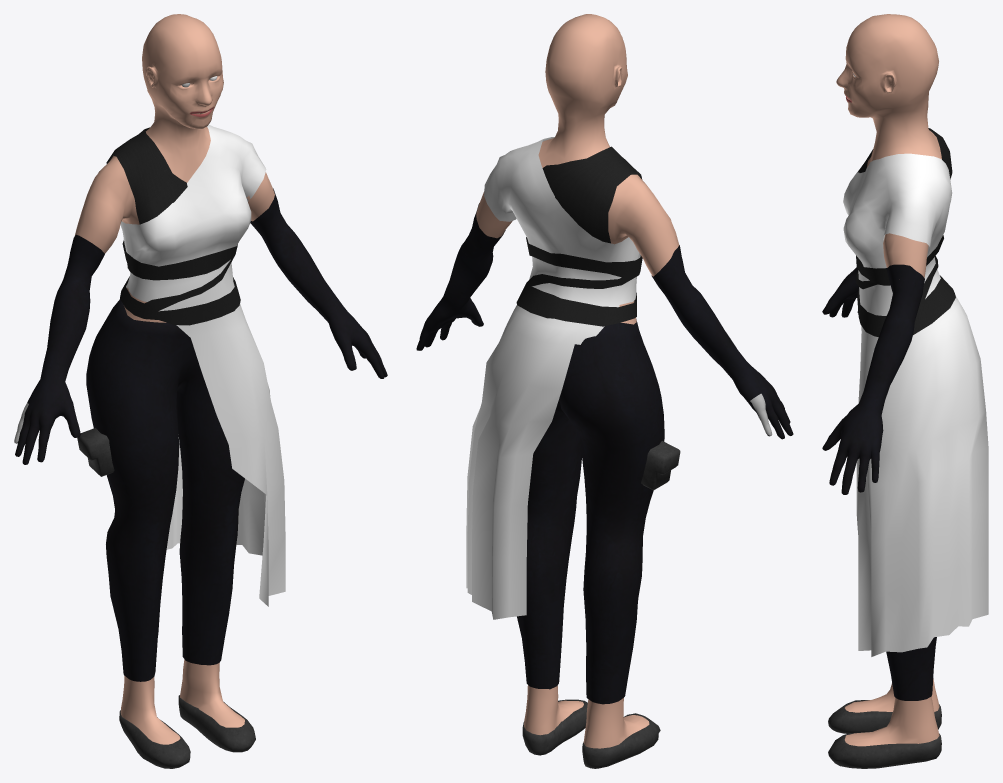
File: Character.fbx
The picture shows the model from 3 angles, left to right: view 1: azimuth 30°, elevation 25°; view 2: azimuth 150°, elevation 25°; view 3: azimuth 270°, elevation 25°; orthographic projection.
Visible parts, largest first — view 1: Protagonist.003; view 2: Protagonist.003; view 3: Protagonist.003.
Part boxes in pixels (bbox=[...]): Protagonist.003: bbox=[14, 14, 387, 768]; Protagonist.003: bbox=[416, 14, 793, 768]; Protagonist.003: bbox=[822, 14, 988, 768].
Size of the model in its own units: 93.48 by 177 by 36.6.
